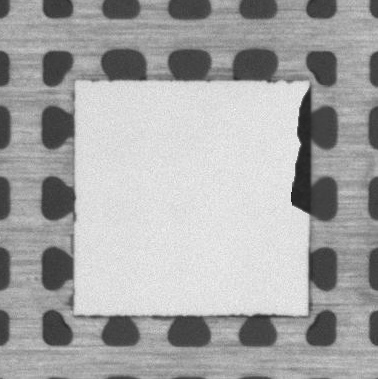DIE_BROKEN: (287, 92, 313, 216)
